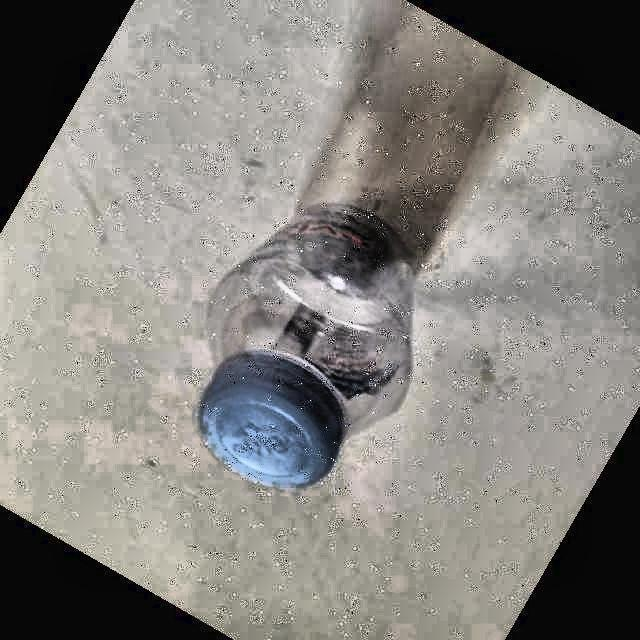plastic: (201, 205, 414, 487)
